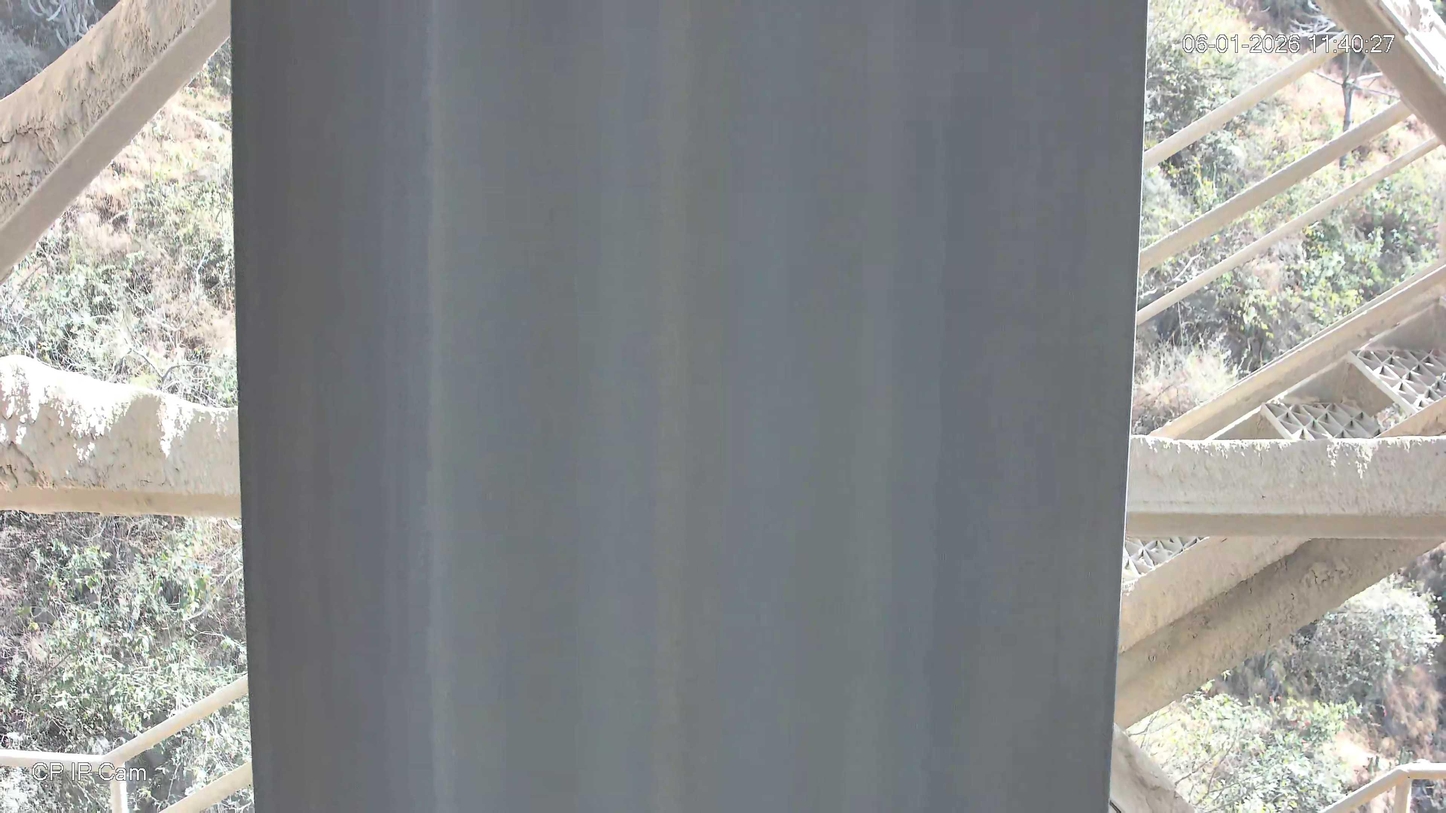belt_roi: (230, 0, 1148, 813)
